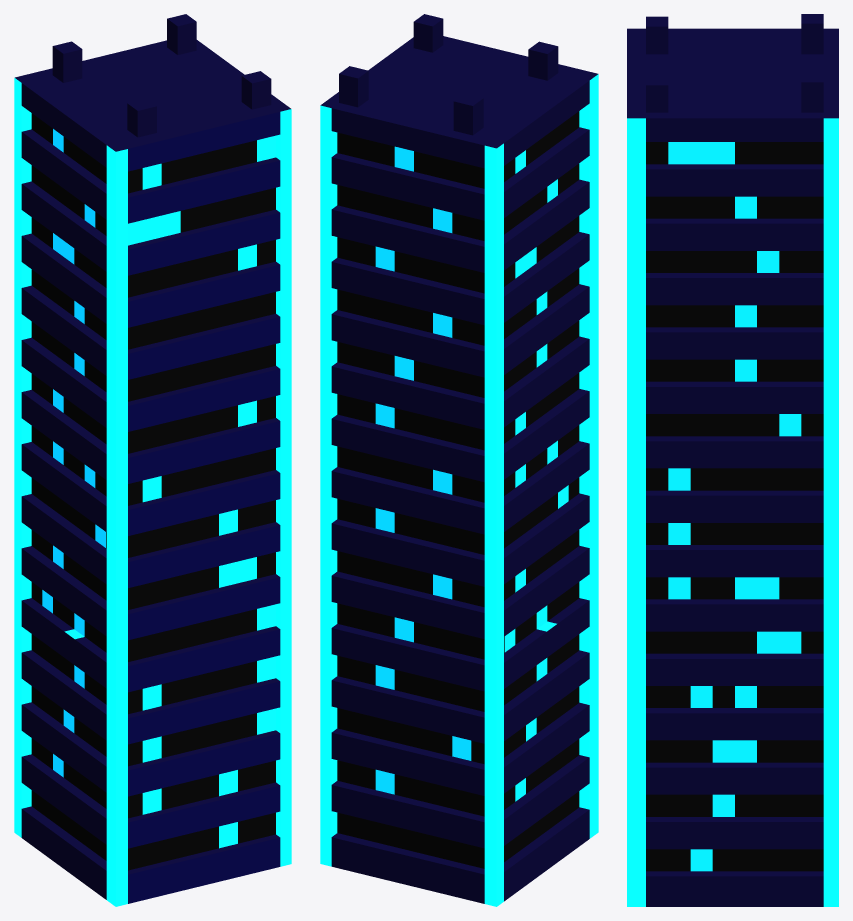
The model's file is house12.glb.
The picture shows the model from 3 angles, left to right: view 1: azimuth 30°, elevation 25°; view 2: azimuth 150°, elevation 25°; view 3: azimuth 270°, elevation 25°; orthographic projection. The views are drawn at different scales.
Visible parts, largest first — view 1: 立方体; view 2: 立方体; view 3: 立方体.
Part boxes in pixels (bbox=[...]): 立方体: bbox=[14, 14, 291, 906]; 立方体: bbox=[320, 14, 598, 906]; 立方体: bbox=[627, 14, 838, 906].
Bounding box in the file's own units: 2 × 8.53 × 2.
